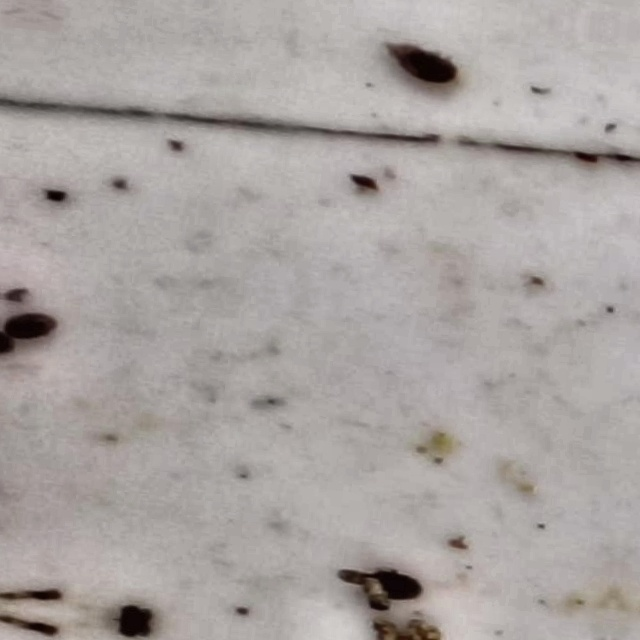varroa: (390, 45, 458, 88), (369, 567, 426, 605)
